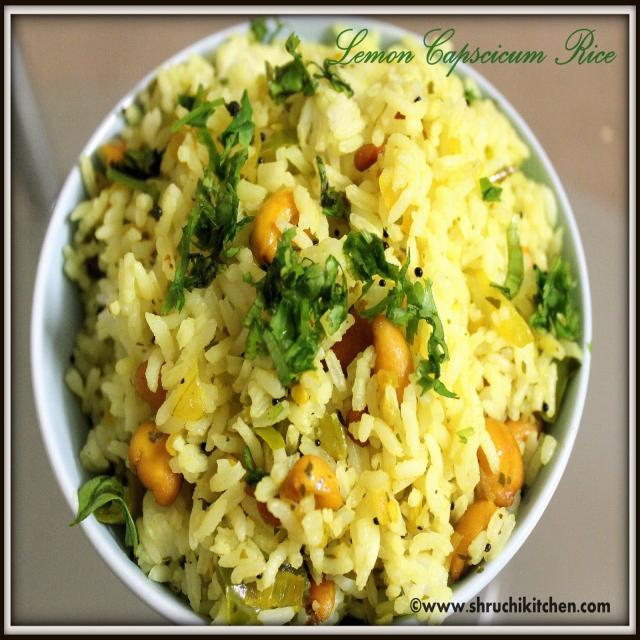lemon rice: (53, 16, 594, 640)
